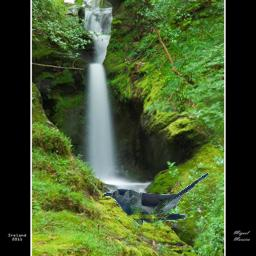Cuckoo: (102, 171, 213, 226)
